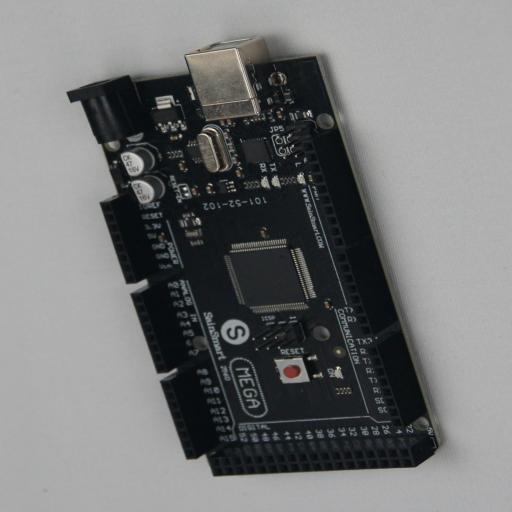Arduino Mega 2560 -Black-: (67, 38, 444, 476)
